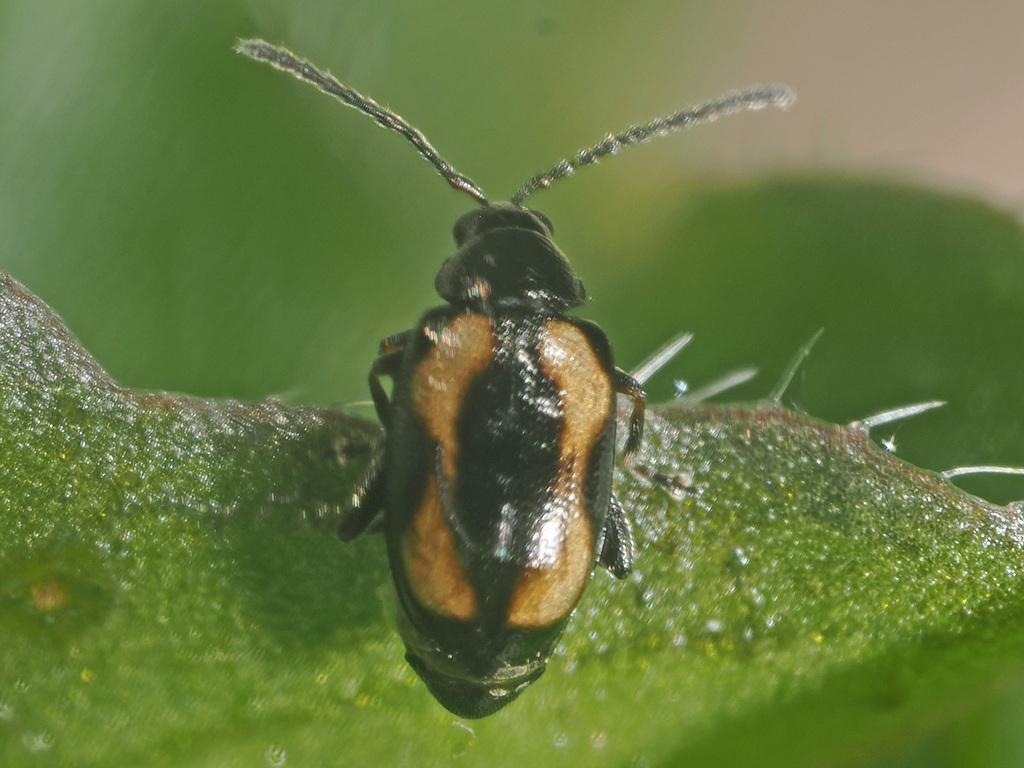flea_beetle: (191, 0, 859, 740)
